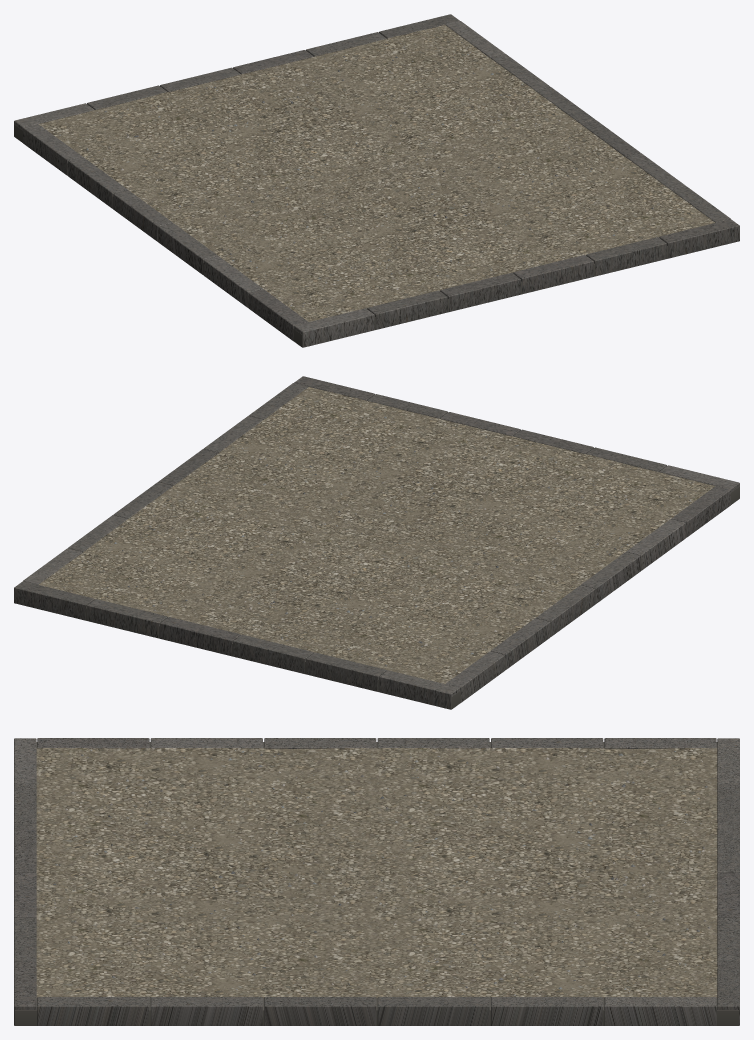
File: floor-gravel-wide.glb
The picture shows the model from 3 angles, top to bottom: view 1: azimuth 30°, elevation 25°; view 2: azimuth 150°, elevation 25°; view 3: azimuth 270°, elevation 25°; orthographic projection. The views are drawn at different scales.
Parts seen in each view (by area): view 1: Crowned_gravel, Perimeter_granite, Loose_granite_chips; view 2: Crowned_gravel, Perimeter_granite, Loose_granite_chips; view 3: Crowned_gravel, Perimeter_granite, Loose_granite_chips, Compacted_base_and_visible_joints.
Part boxes in pixels (<box>): Crowned_gravel: <box>38,25,714,321</box>; Perimeter_granite: <box>14,14,739,347</box>; Loose_granite_chips: <box>59,32,694,306</box>; Crowned_gravel: <box>39,387,715,683</box>; Perimeter_granite: <box>14,376,739,709</box>; Loose_granite_chips: <box>63,405,691,677</box>; Crowned_gravel: <box>36,748,717,997</box>; Perimeter_granite: <box>14,738,739,1025</box>; Loose_granite_chips: <box>43,749,711,995</box>; Compacted_base_and_visible_joints: <box>15,742,738,1025</box>.
Bounding box in the file's own units: 2.8 × 0.1024 × 3.2.
4 materials, 2 textured.
